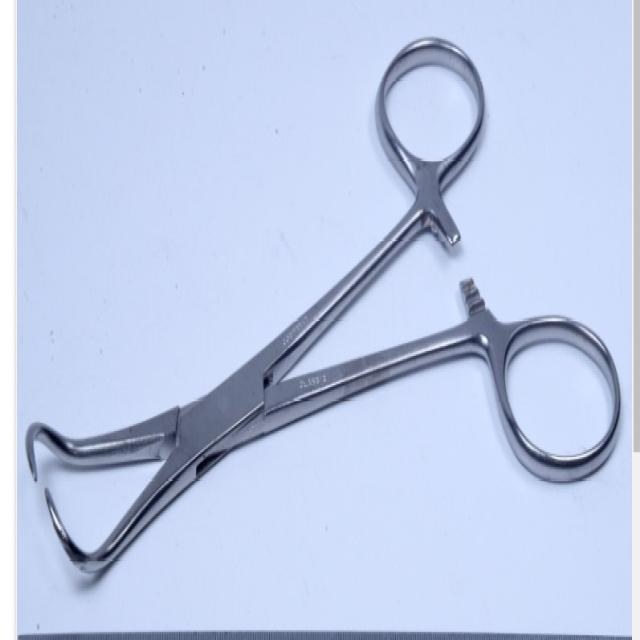Backhaus Towel Clamp: (25, 28, 622, 580)
